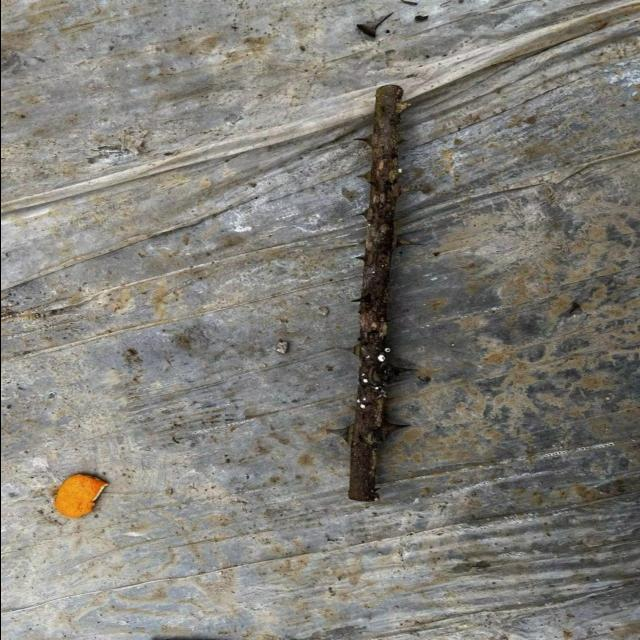branch: (344, 85, 400, 504)
